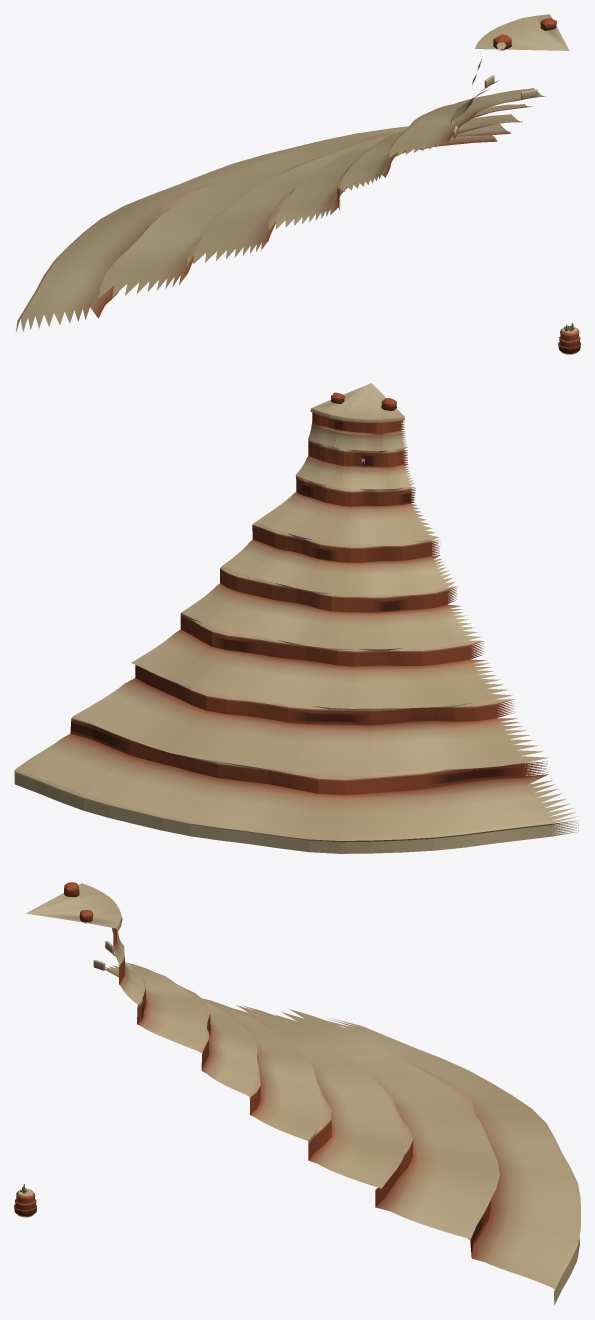
The model's file is canyon-s1-B1aDdB2X.glb.
The picture shows the model from 3 angles, top to bottom: view 1: azimuth 30°, elevation 25°; view 2: azimuth 150°, elevation 25°; view 3: azimuth 270°, elevation 25°; orthographic projection. The views are drawn at different scales.
Visible parts, largest first — view 1: sc_landmark_1, sc_butte_1; view 2: sc_landmark_1; view 3: sc_landmark_1, sc_butte_1.
Part boxes in pixels (bbox=[...]): sc_landmark_1: bbox=[16, 14, 569, 331]; sc_butte_1: bbox=[558, 323, 580, 353]; sc_landmark_1: bbox=[14, 383, 579, 853]; sc_landmark_1: bbox=[26, 882, 580, 1304]; sc_butte_1: bbox=[14, 1184, 36, 1216].
Bounding box in the file's own units: 493 × 275 × 434.
